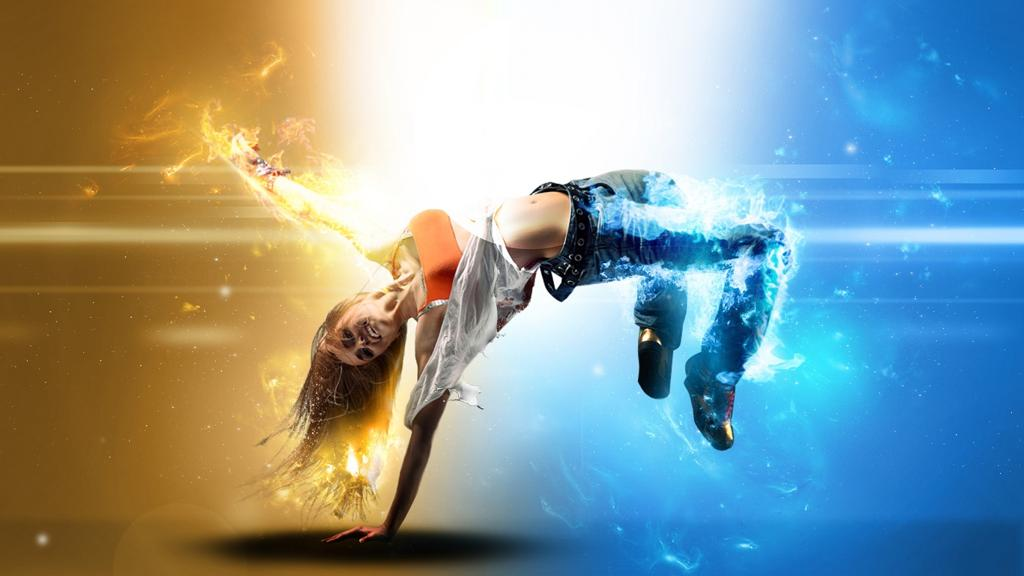face: (324, 312, 400, 366)
